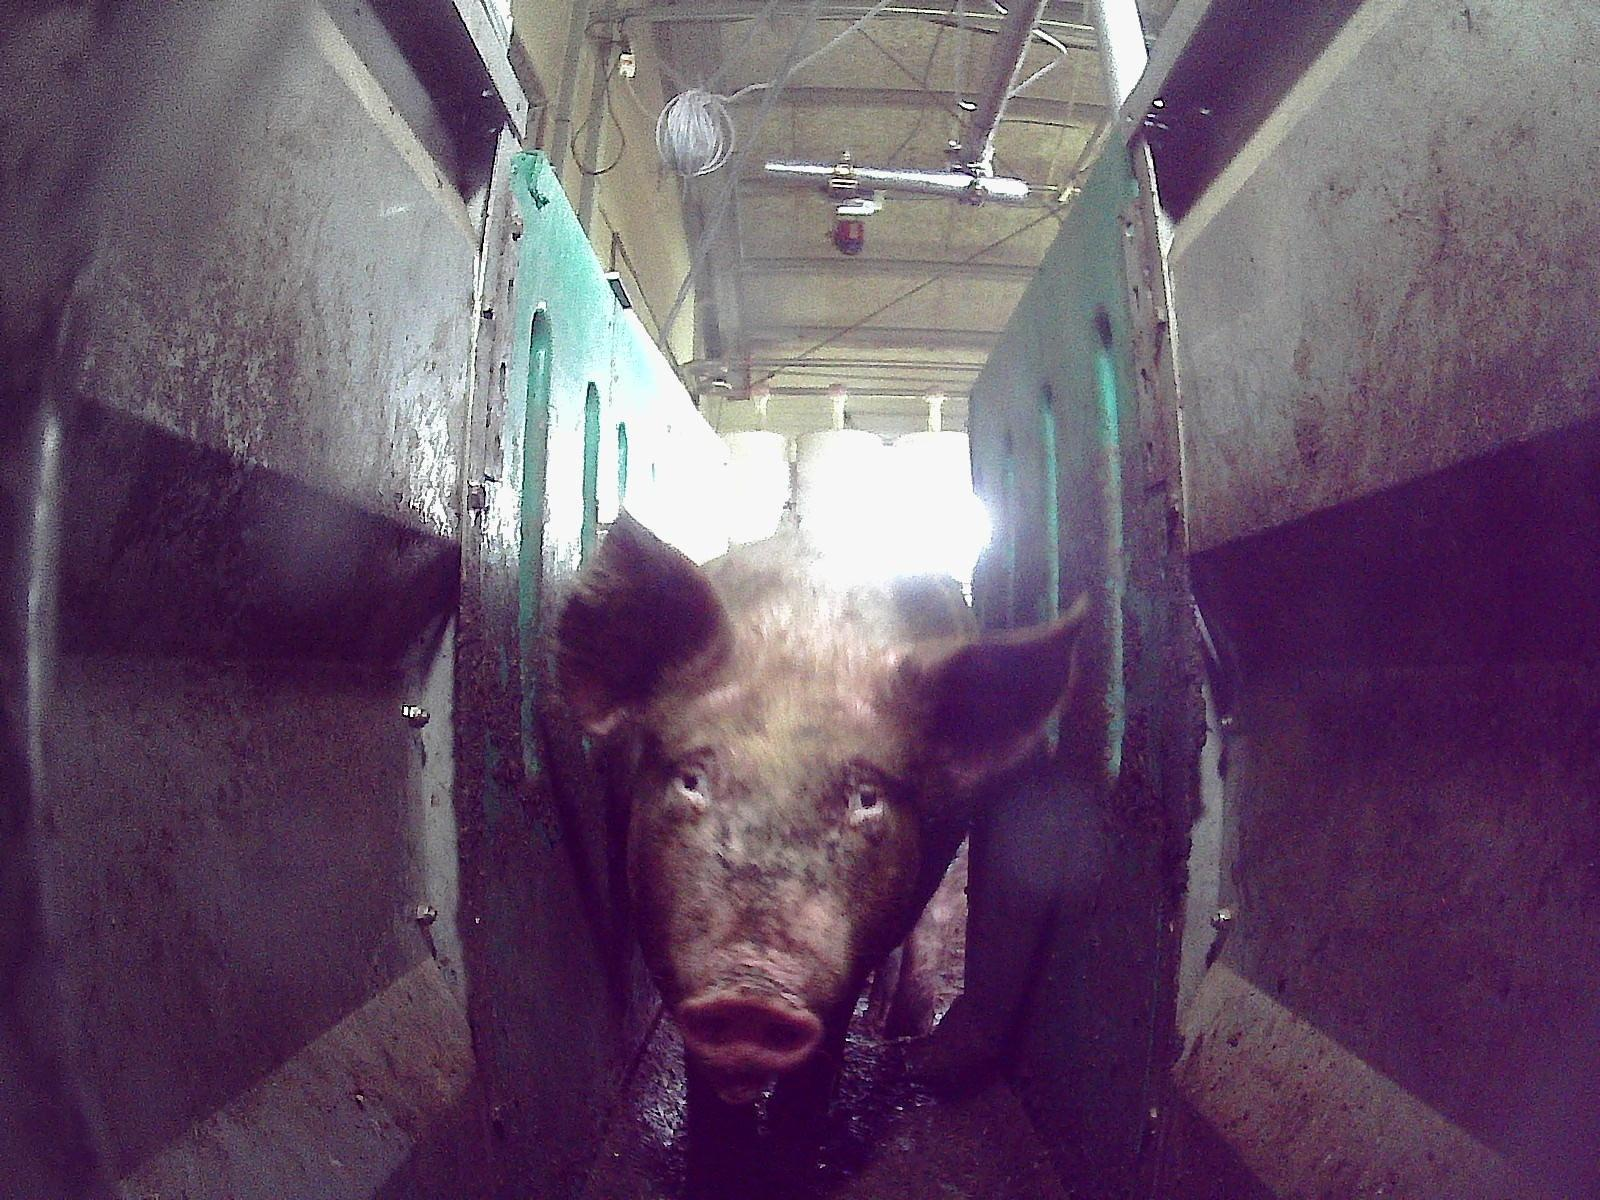Face: (632, 650, 918, 1093)
